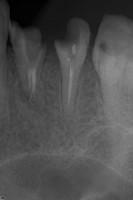Furcation Involvement: (18, 82, 41, 109)
